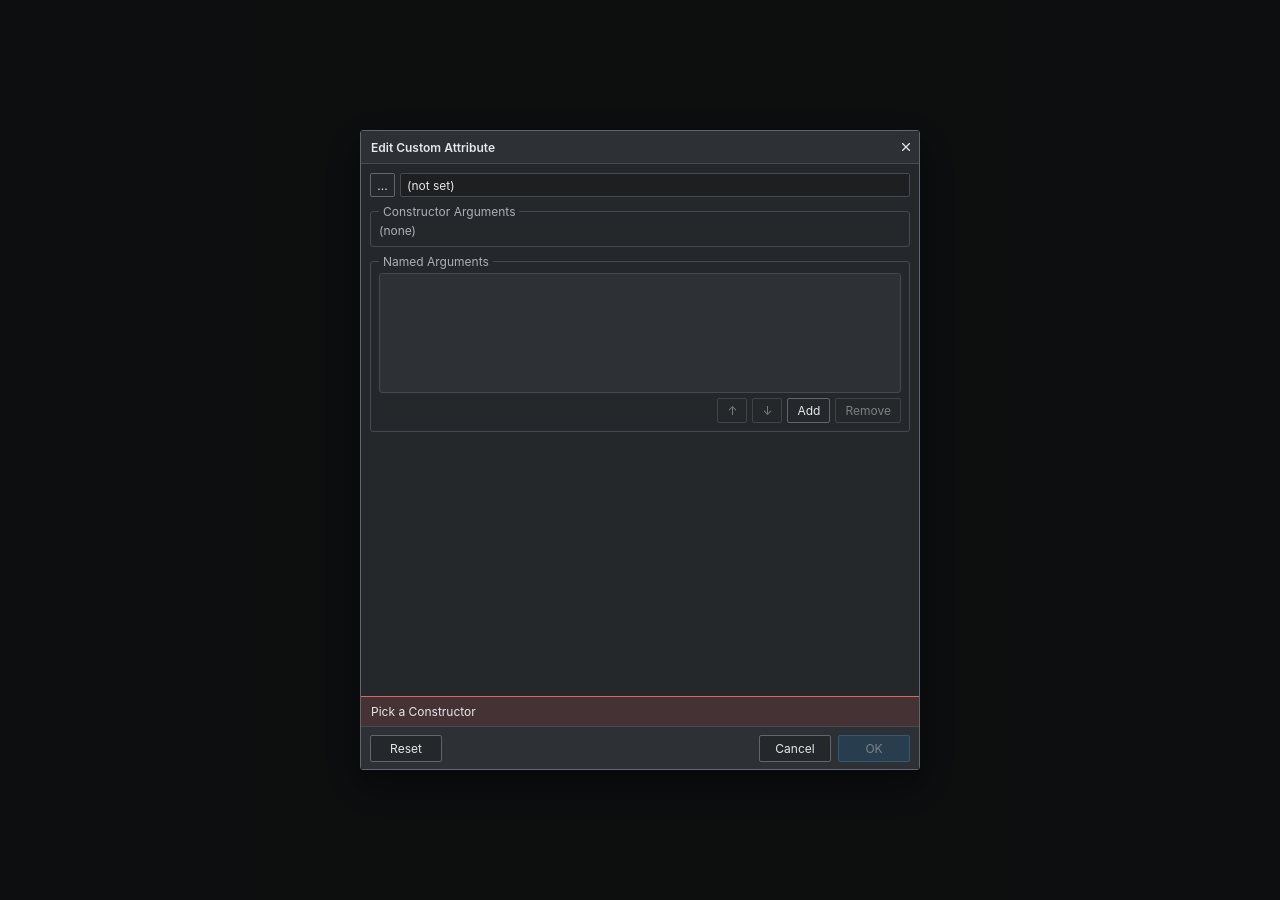
CustomAttributeDialog › builds one argument per parameter of the constructor it is pointed at
The image size is (1280, 900).
What coordinates should you click on to do the following:
click the button named "Pick a Constructor"
I would click on:
 (382, 185)
Its box is [370,173,395,197].
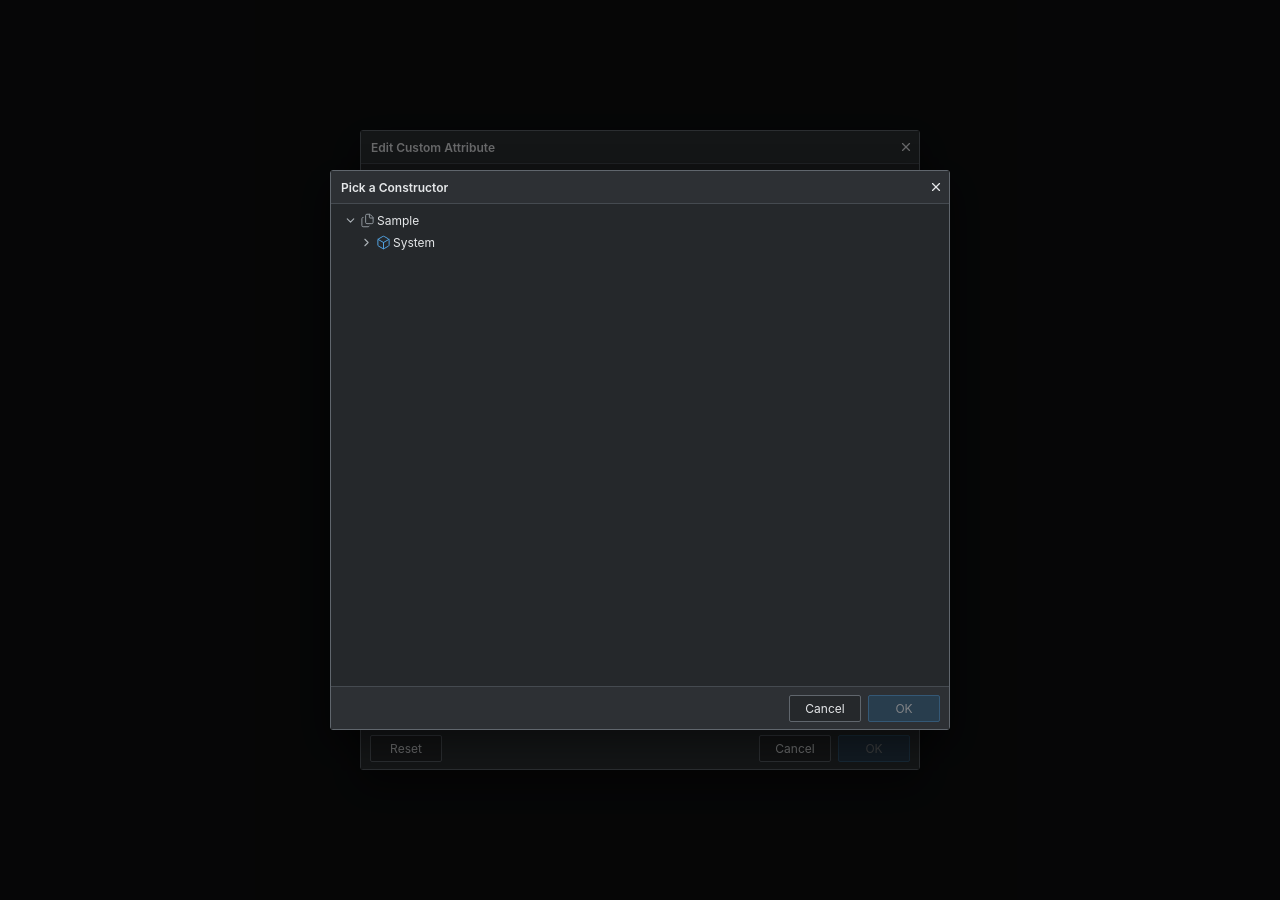
Expected: the text "Sample" is shown, [377,212,419,228]
What coordinates should you click on to do the following:
click the button named "Expand"
I would click on:
 (366, 242)
Its box is [358,233,374,251].
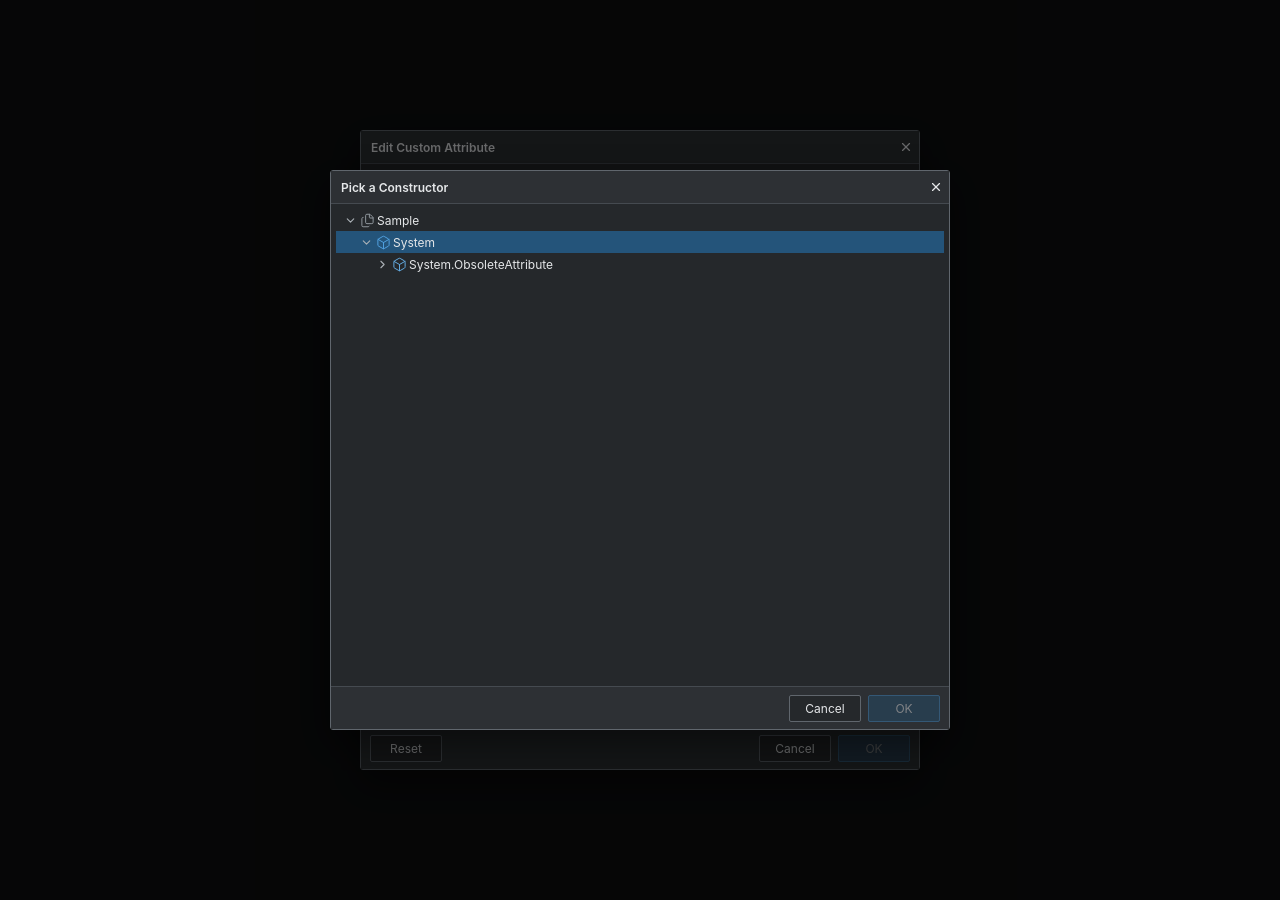
Expected: the text "System.ObsoleteAttribute" is shown, [409,256,553,272]
What coordinates should you click on to do the following:
click the button named "Expand"
I would click on:
 (382, 264)
Its box is [374,255,390,273].
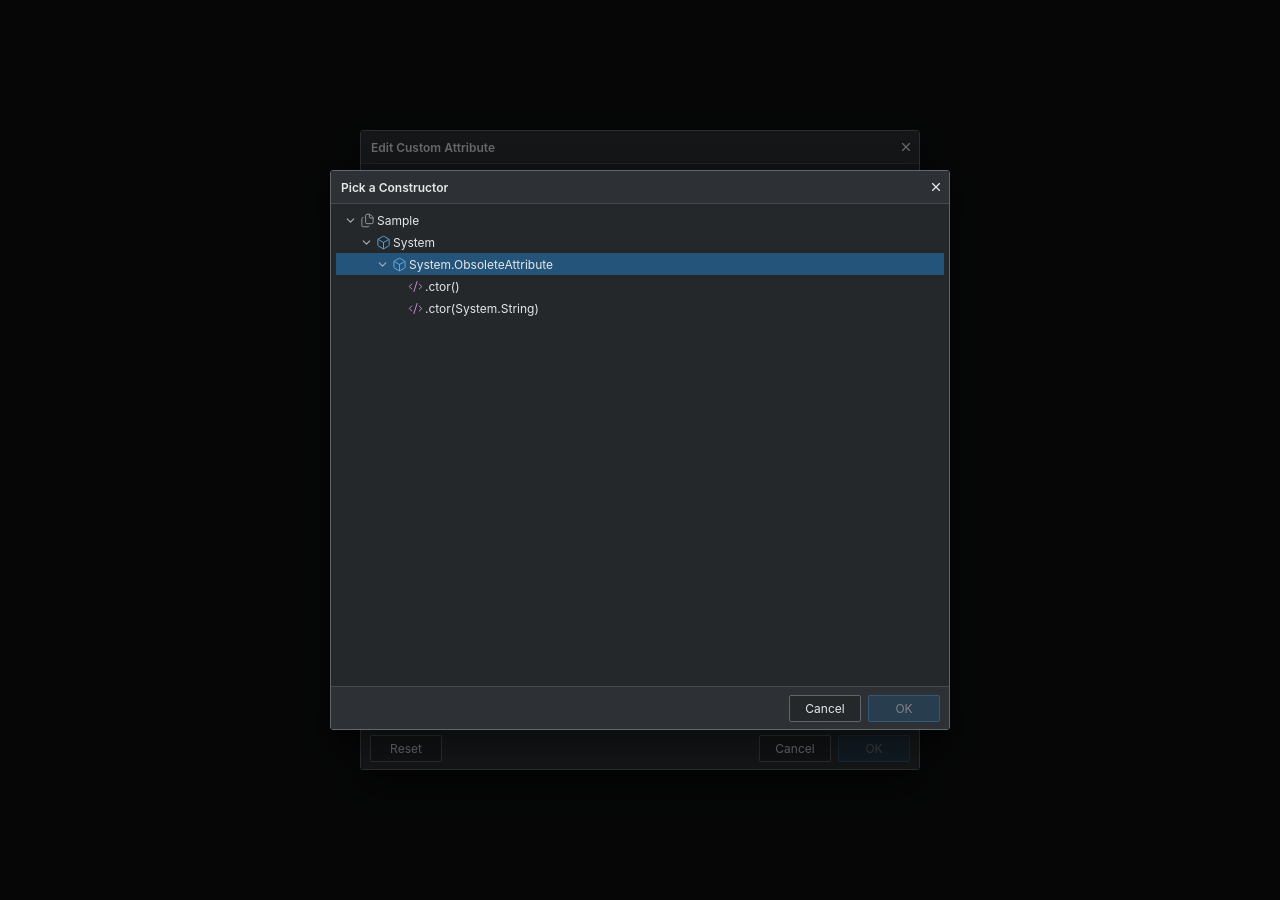
What coordinates should you click on to do the following:
click the text ".ctor(System.String)"
I would click on:
 (482, 308)
Its box is [425,300,539,316].
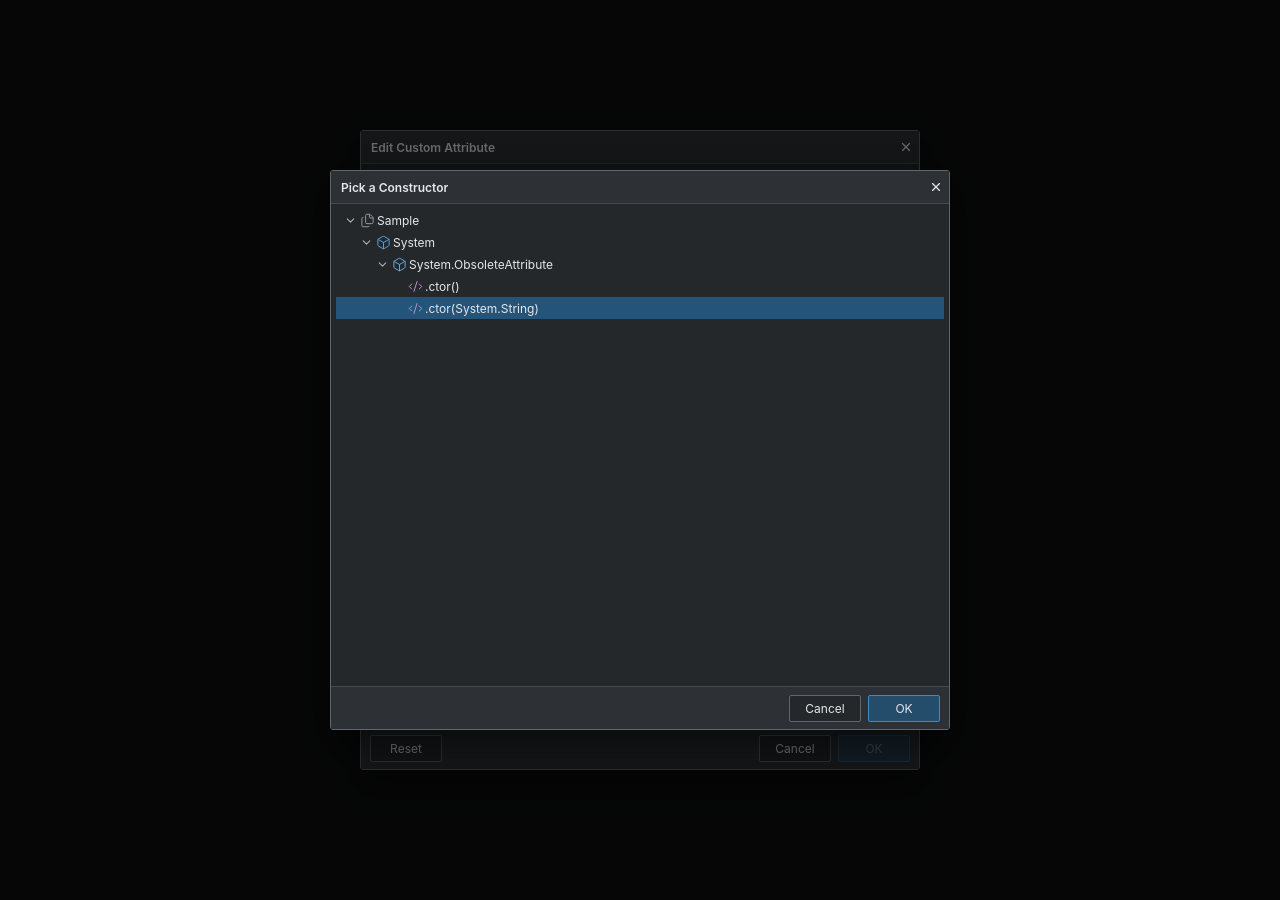
What coordinates should you click on to do the following:
click the button "OK"
I would click on:
 (904, 708)
Its box is [868,694,940,722].
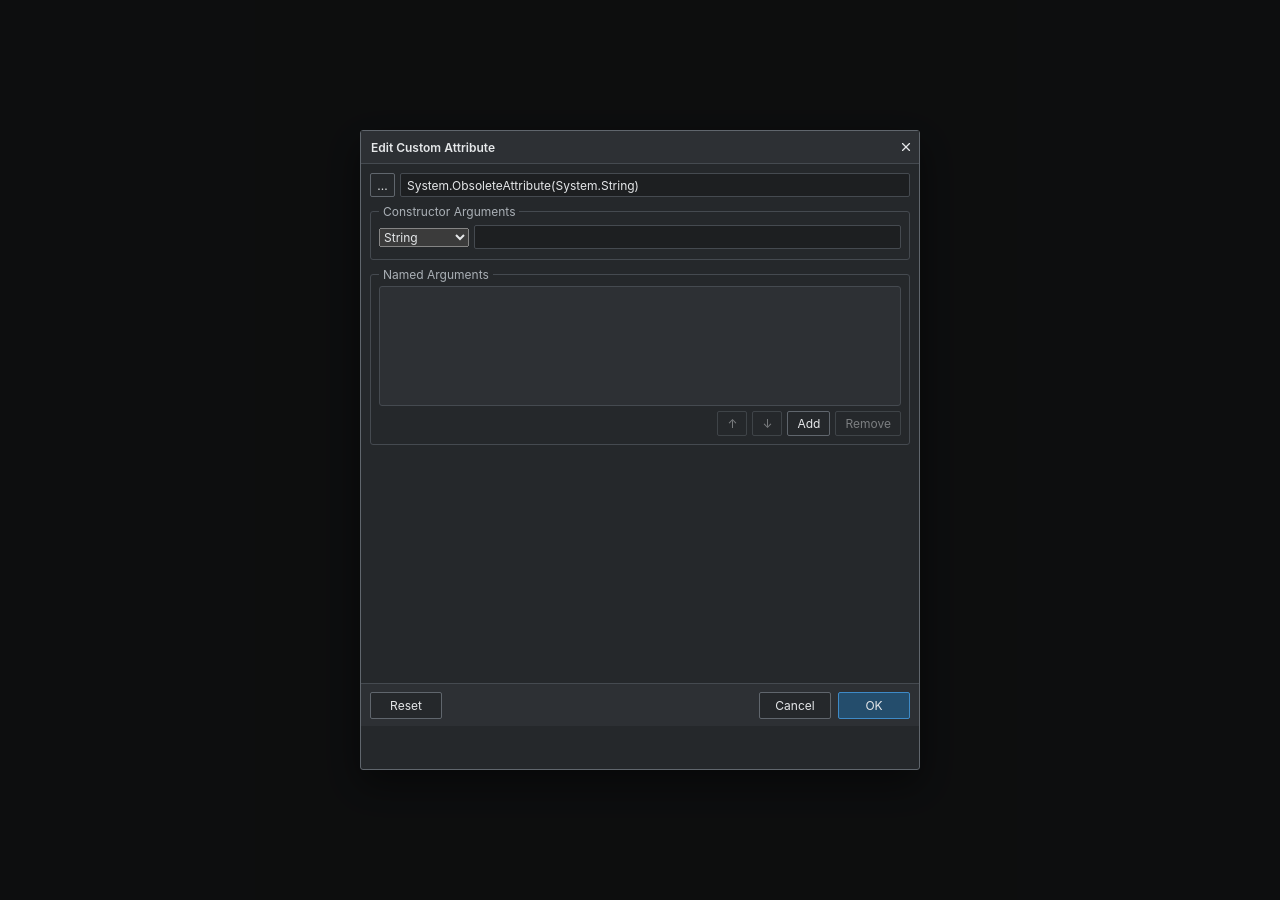
Expected: the text "Pick a Constructor" is gone
Expected: the field named "Constructor" holds "System.ObsoleteAttribute(System.String)", [400,173,910,197]
Expected: the number of dropdowns named "Value type" is 1, [379,228,469,246]
